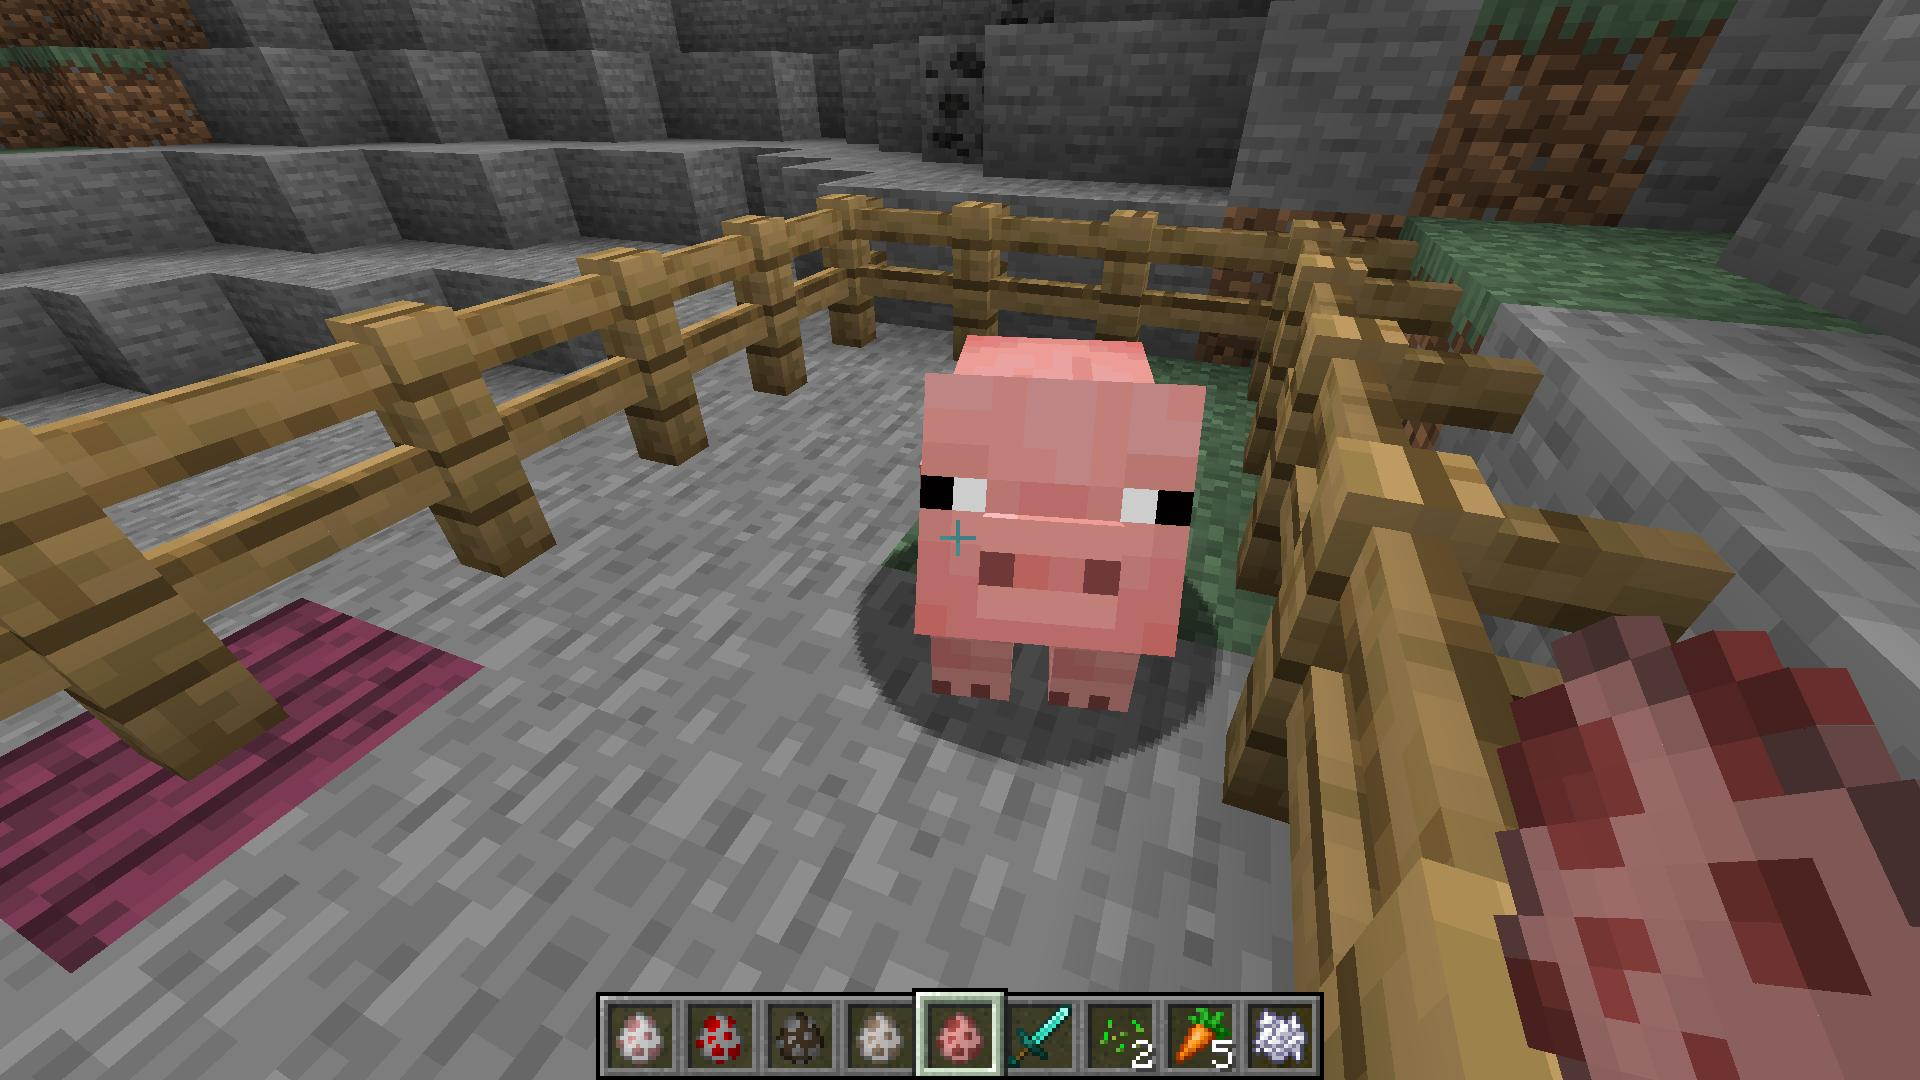pig: (914, 334, 1217, 727)
